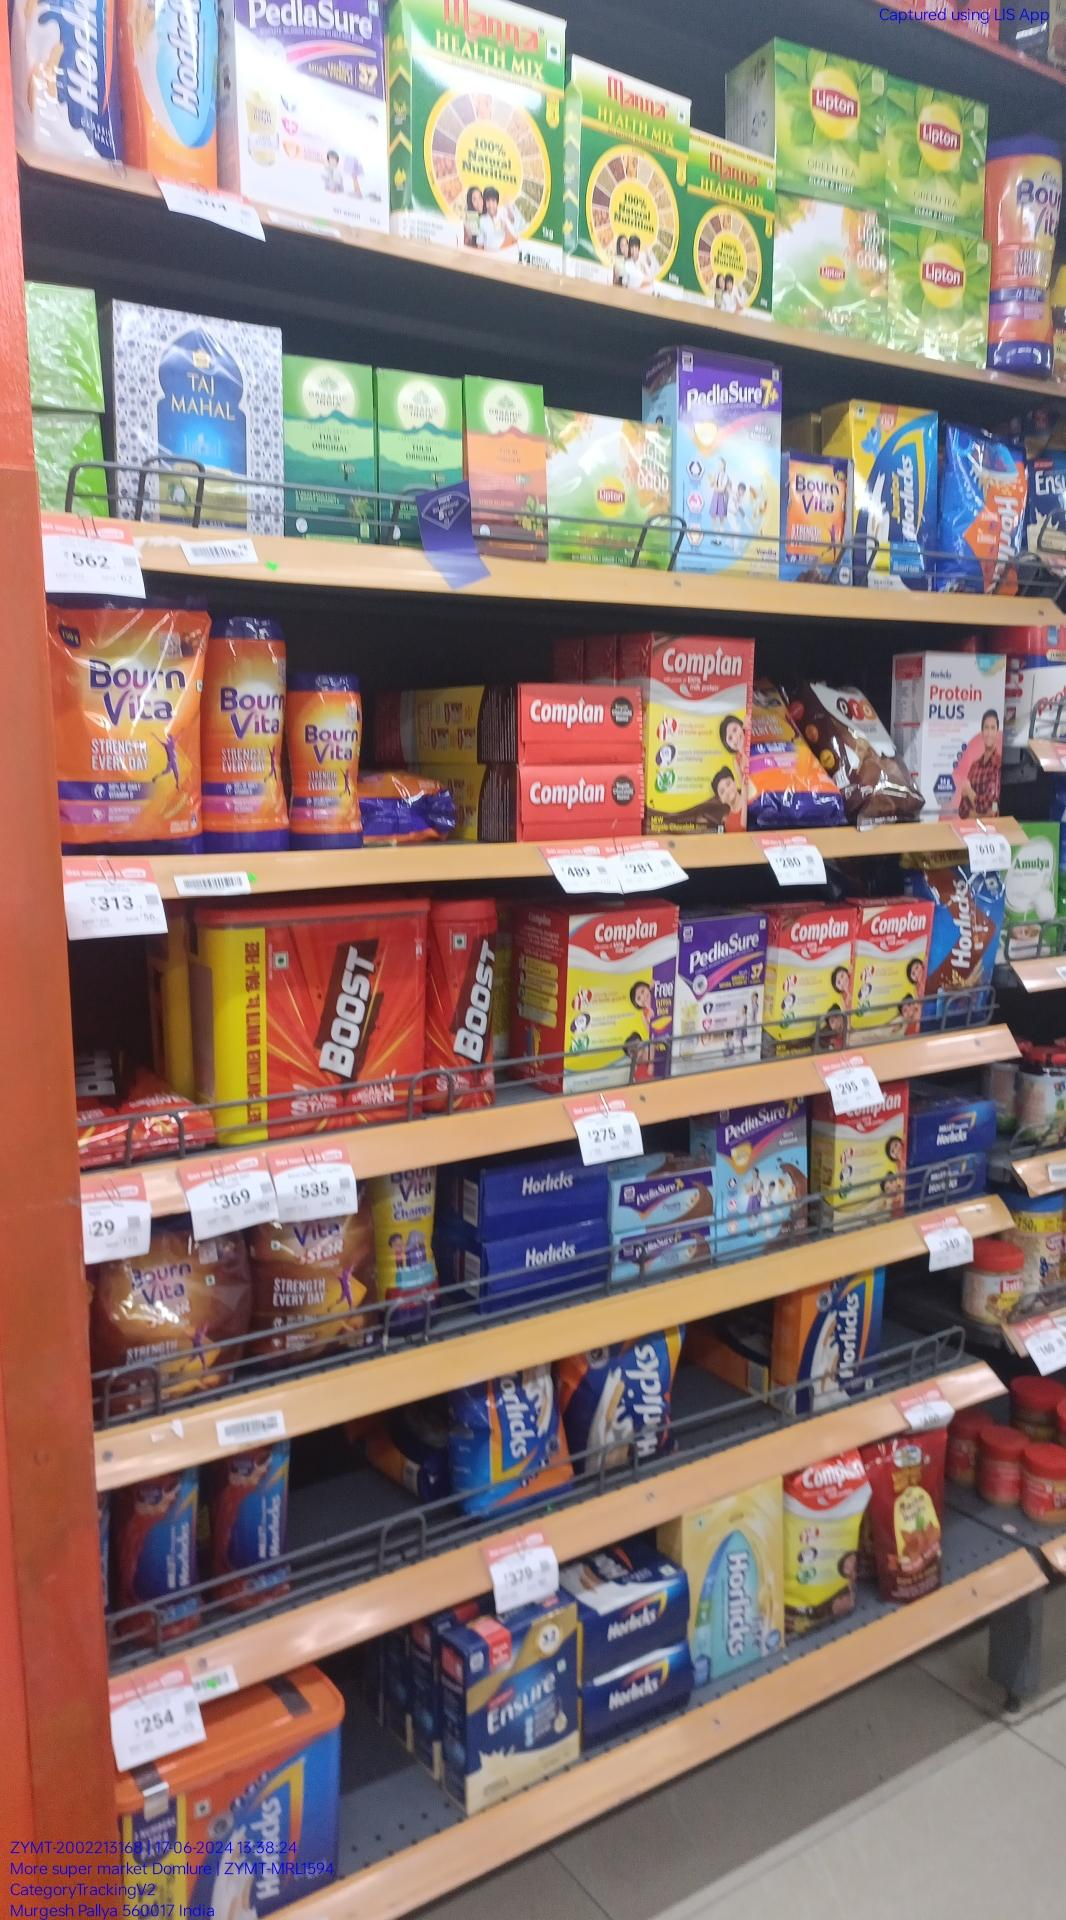BOURN_VITA_200_G_JAR: (297, 671, 364, 845)
BOURN_VITA_500_G_JAR: (207, 618, 290, 852)
BOURN_VITA_750_G_POUCH: (59, 600, 200, 848)
BOURN_VITA_CHAMPS_500_G_JAR: (381, 1177, 441, 1332)
BOURN_VITA_FIVE_STAR_MAGIC_500_G_POUCH: (101, 1265, 247, 1409), (257, 1222, 374, 1350)
COMPLAN_CHOCOLATE_500_GMS_PACK: (650, 631, 748, 833), (775, 909, 853, 1054)
COMPLAN_CREAMY_CLASSIC_500_G_PACK: (563, 916, 671, 1080)
COMPLAN_KESAR_BADAM_500_GMS_PACK: (857, 902, 928, 1045)
COMPLAN_PISTA_BADAM_500_GMS_PACK: (832, 1117, 906, 1224)
COMPLAN_RC_POUCH_700_GMS_12: (788, 1457, 866, 1635)
ENSURE_VANILLA_400_G_PACK: (469, 1640, 578, 1777)
HORLICK_CHOCOLATE_750_G_POUCH: (935, 865, 1004, 1033)
HORLICK_MALT_1_KG_CONTAINER: (121, 1761, 341, 1915)
PEDIASURE_7_PLUS_CHOCOLATE_400_G_PACK: (718, 1114, 809, 1249)
